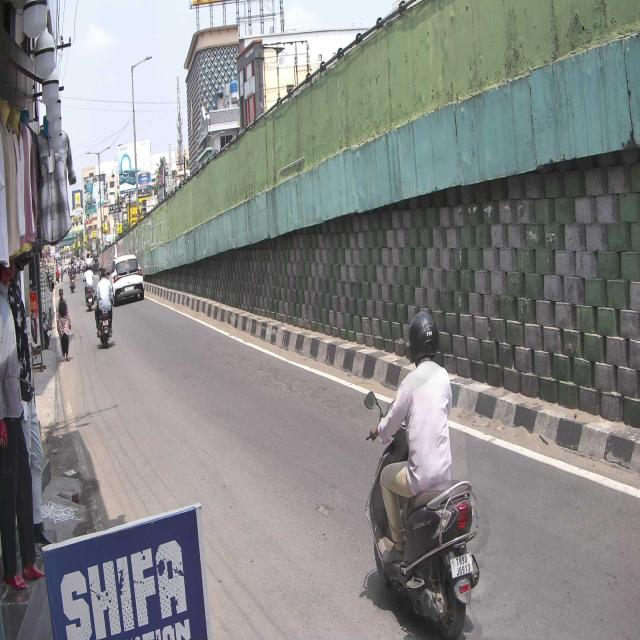single_rider: (365, 304, 479, 640)
